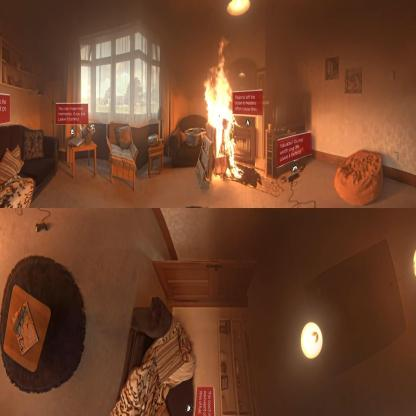fire: (202, 33, 244, 183)
